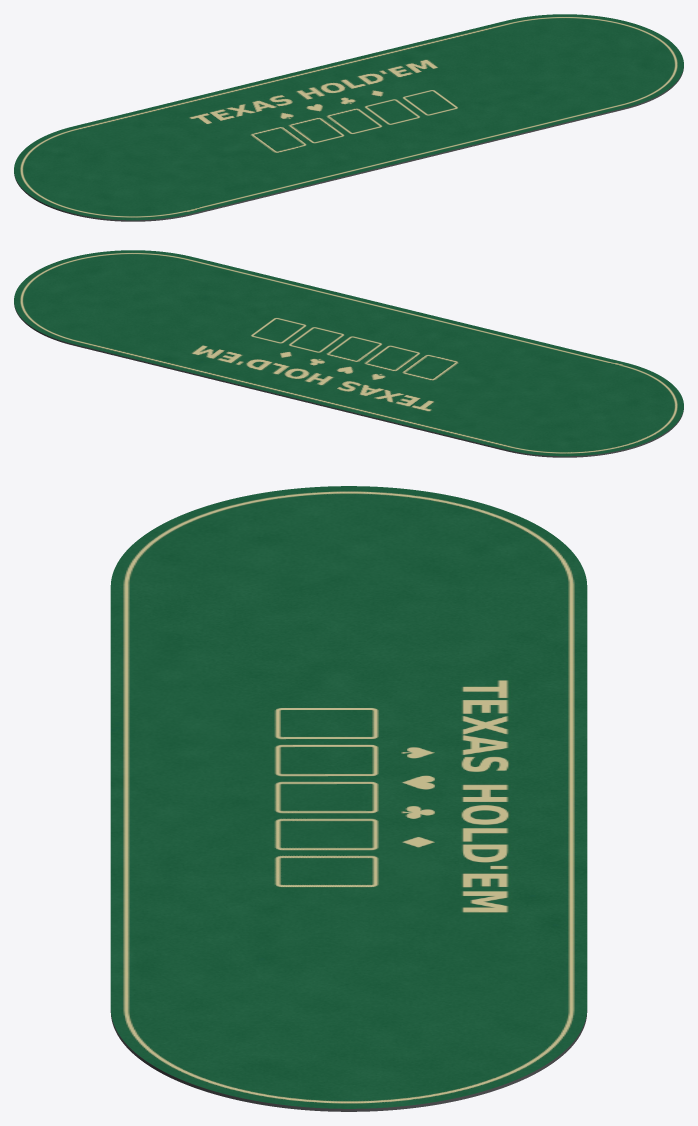
The model's file is tapis_poker_centre.glb.
The picture shows the model from 3 angles, top to bottom: view 1: azimuth 30°, elevation 25°; view 2: azimuth 150°, elevation 25°; view 3: azimuth 270°, elevation 25°; orthographic projection. The views are drawn at different scales.
Parts seen in each view (by area): view 1: tapis_dessus, tapis_tranche_dessous; view 2: tapis_dessus, tapis_tranche_dessous; view 3: tapis_dessus, tapis_tranche_dessous.
Part boxes in pixels (<box>): tapis_dessus: <box>14,14,683,220</box>; tapis_tranche_dessous: <box>14,67,683,221</box>; tapis_dessus: <box>14,250,683,456</box>; tapis_tranche_dessous: <box>14,303,683,457</box>; tapis_dessus: <box>110,486,587,1108</box>; tapis_tranche_dessous: <box>110,1010,587,1111</box>.
Bounding box in the file's own units: 1.33 × 0.003 × 0.43.
Materials: 2 (1 with a texture image).
